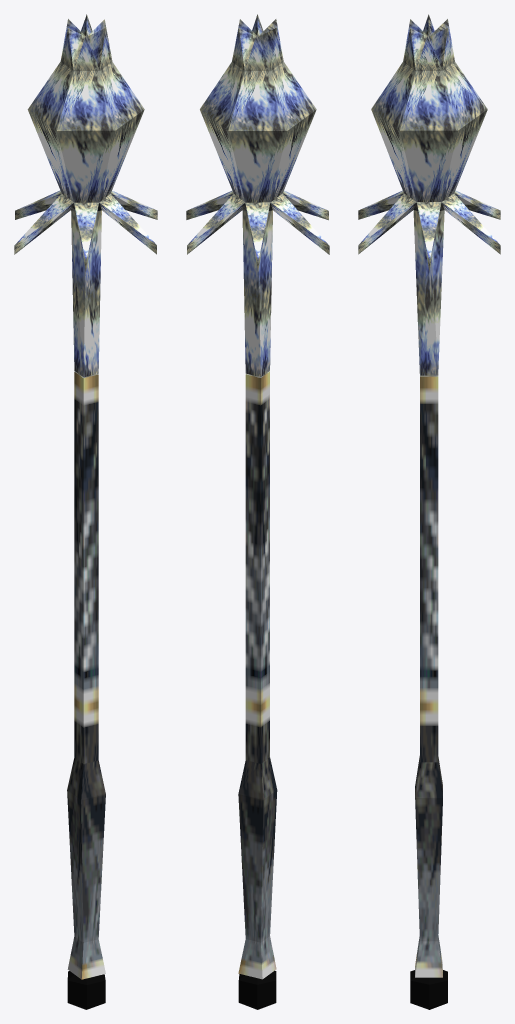
File: wavemaster01_1.obj
3 renders of one model, left to right at view 1: azimuth 30°, elevation 25°; view 2: azimuth 150°, elevation 25°; view 3: azimuth 270°, elevation 25°, orthographic.
Visible parts, largest first — view 1: wavemaster01_1; view 2: wavemaster01_1; view 3: wavemaster01_1.
Part boxes in pixels (box(x1,y1,x2,y2)): wavemaster01_1: box(14, 14, 157, 1009); wavemaster01_1: box(186, 14, 329, 1009); wavemaster01_1: box(358, 14, 500, 1009).
Bounding box in the file's own units: 0.2587 × 1.7 × 0.2224.
